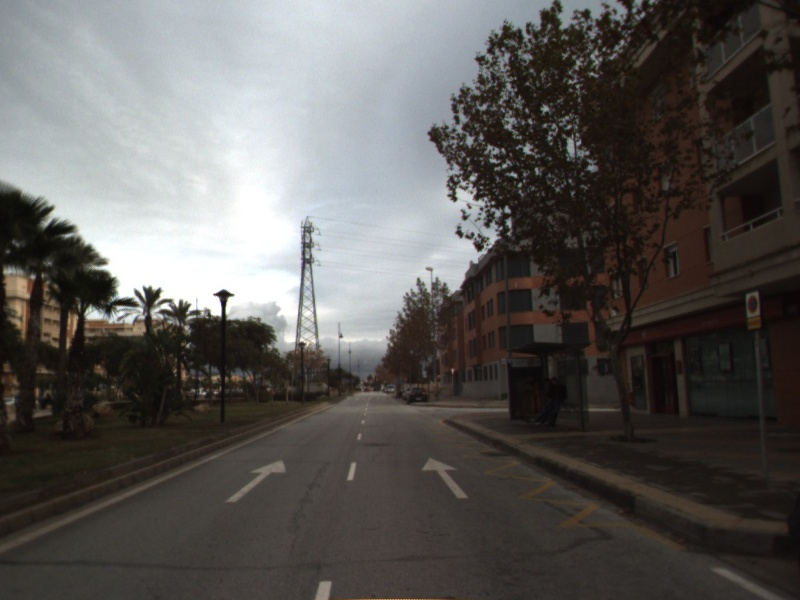STRAIGHT: (223, 458, 288, 504), (419, 455, 471, 500)
